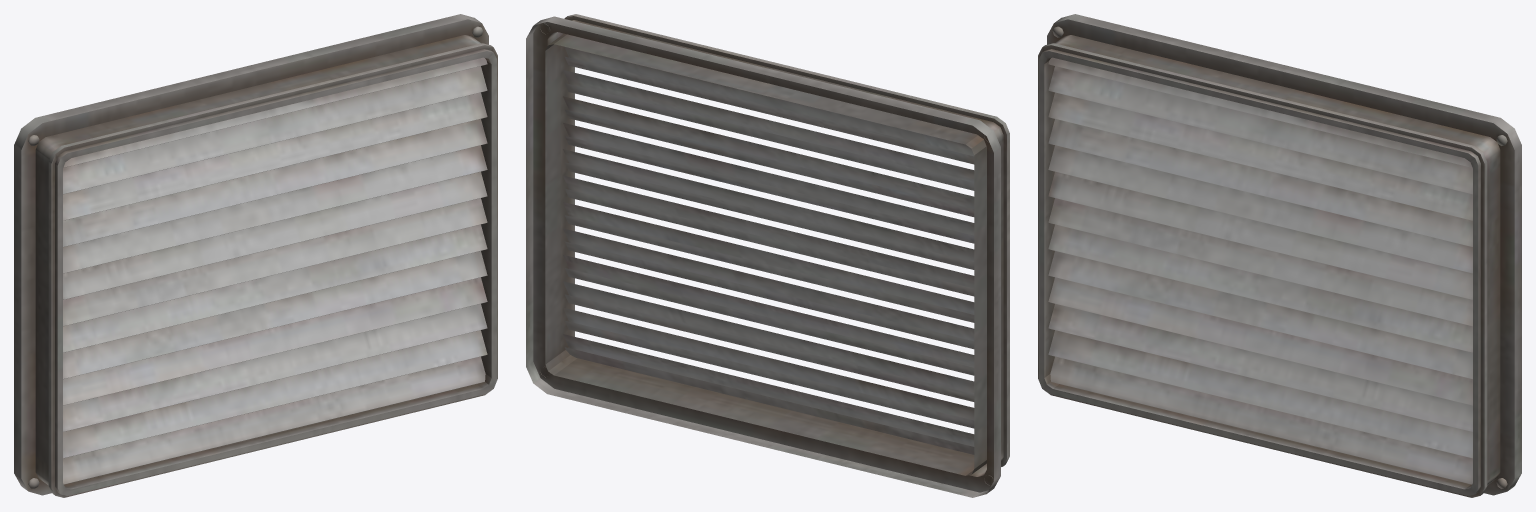
Rendered from vent_01.gltf.
3 renders of one model, left to right at view 1: azimuth 30°, elevation 25°; view 2: azimuth 150°, elevation 25°; view 3: azimuth 330°, elevation 25°, orthographic.
Parts seen in each view (by area): view 1: vent_01; view 2: vent_01; view 3: vent_01.
Part boxes in pixels (x1=…): vent_01: x1=14, y1=14, x2=497, y2=497; vent_01: x1=526, y1=14, x2=1009, y2=497; vent_01: x1=1038, y1=14, x2=1521, y2=497.
Size of the model in its own units: 0.5521 by 0.42 by 0.0603.
Materials: 1 (1 with a texture image).
